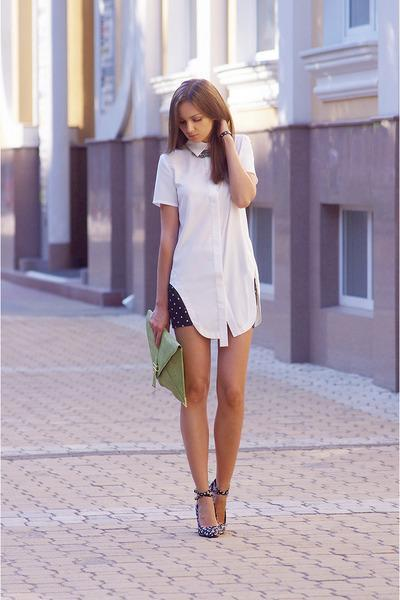bag: (165, 348, 190, 376)
dress: (152, 134, 260, 347)
shoe: (194, 506, 225, 537)
shorts: (165, 308, 192, 333)
